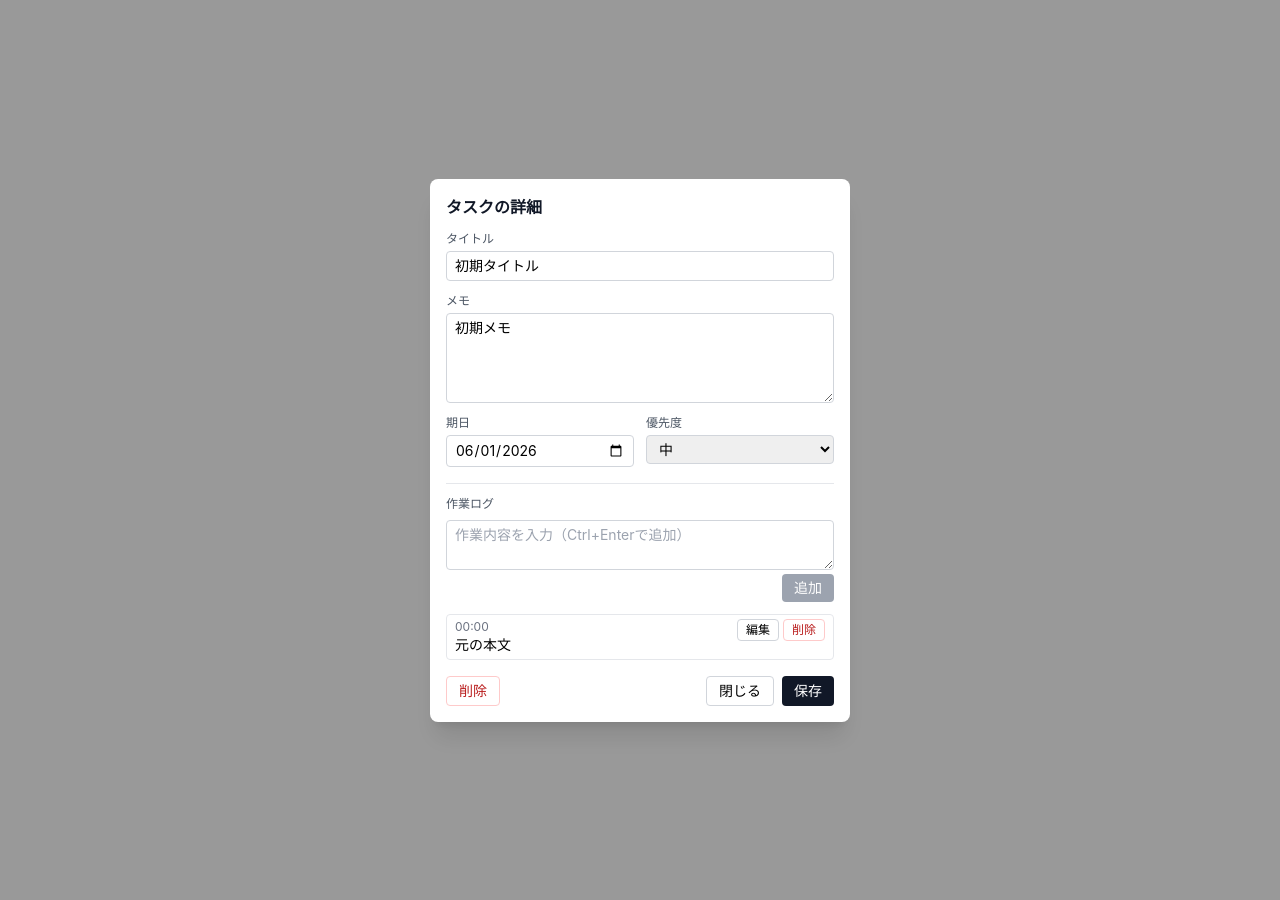
Scenario: TaskDetailDialog 作業ログ: 編集と削除 › 編集ボタンで入力欄になり、既存本文が入っている
Click the button "編集" at (758, 630), box [737,618,779,640]
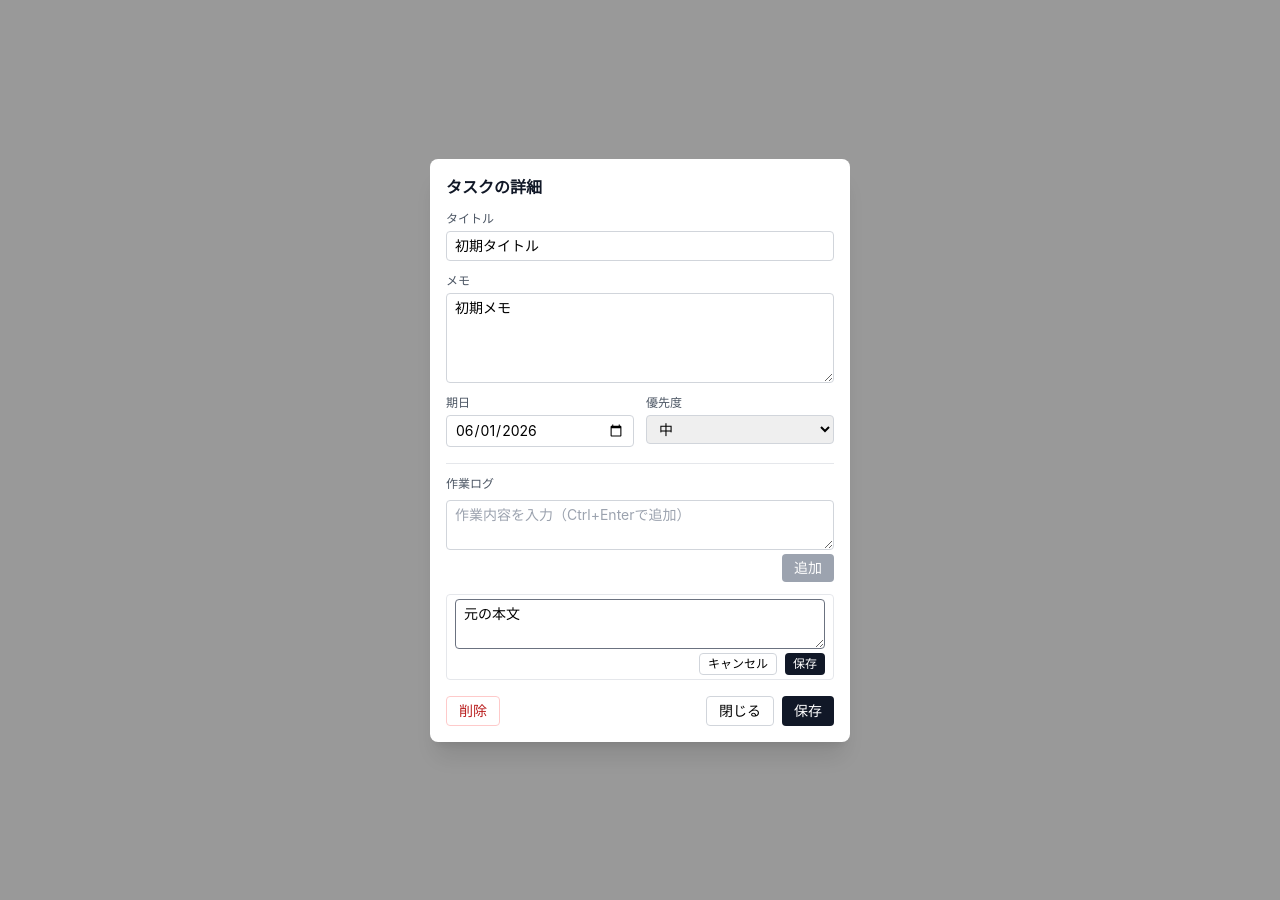
Expected: the text box named "作業ログを編集" holds "元の本文", [455,598,825,648]
